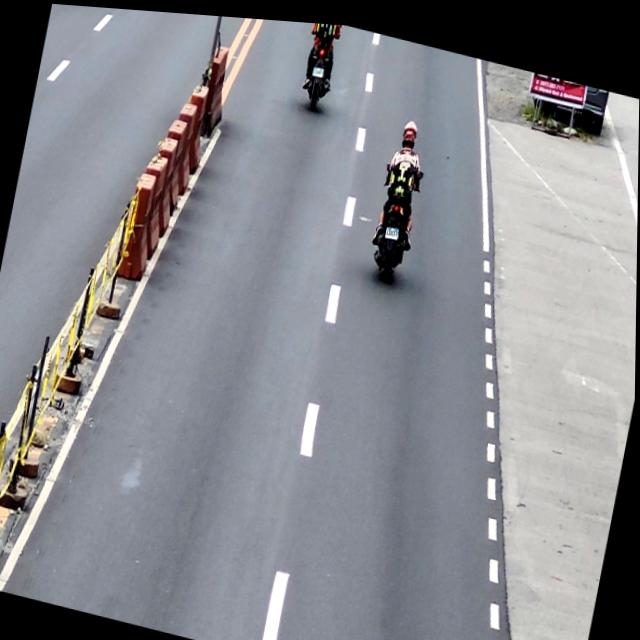License-Plate: (384, 219, 400, 235), (311, 61, 324, 73)
Motorcycle: (366, 151, 424, 282), (297, 17, 343, 110)
